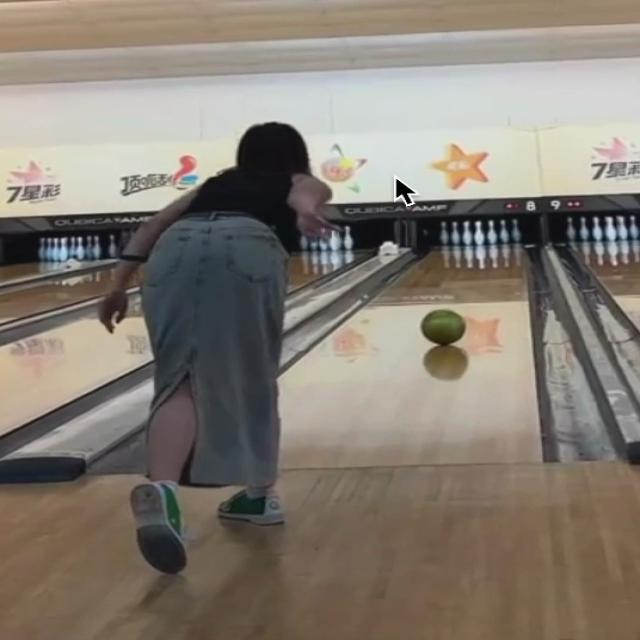alley: (281, 245, 539, 468)
balls: (421, 310, 466, 346)
bottle: (439, 218, 518, 246)
